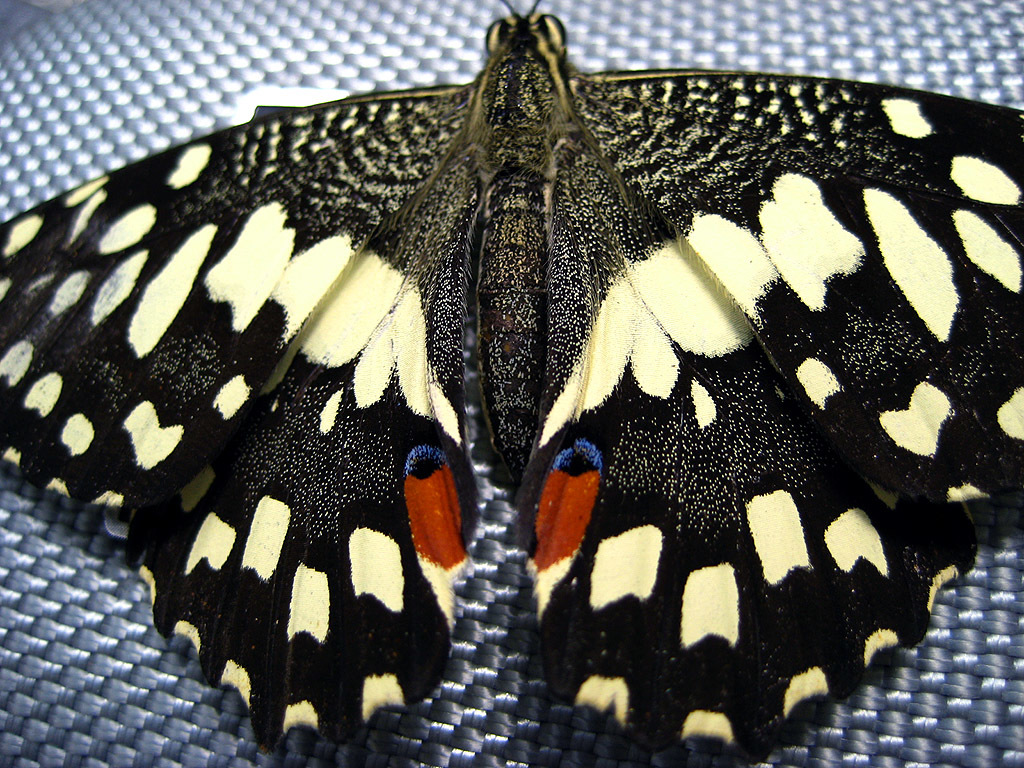Butterfly: (3, 21, 1024, 747)
